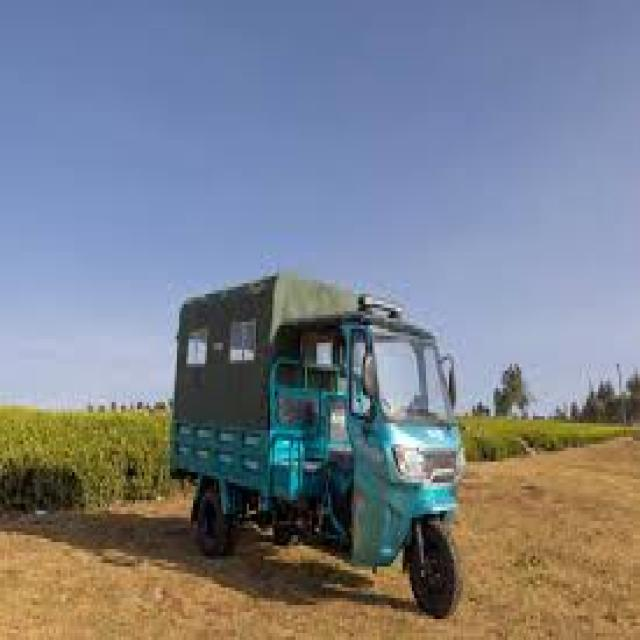tuktuk: (150, 205, 487, 636)
